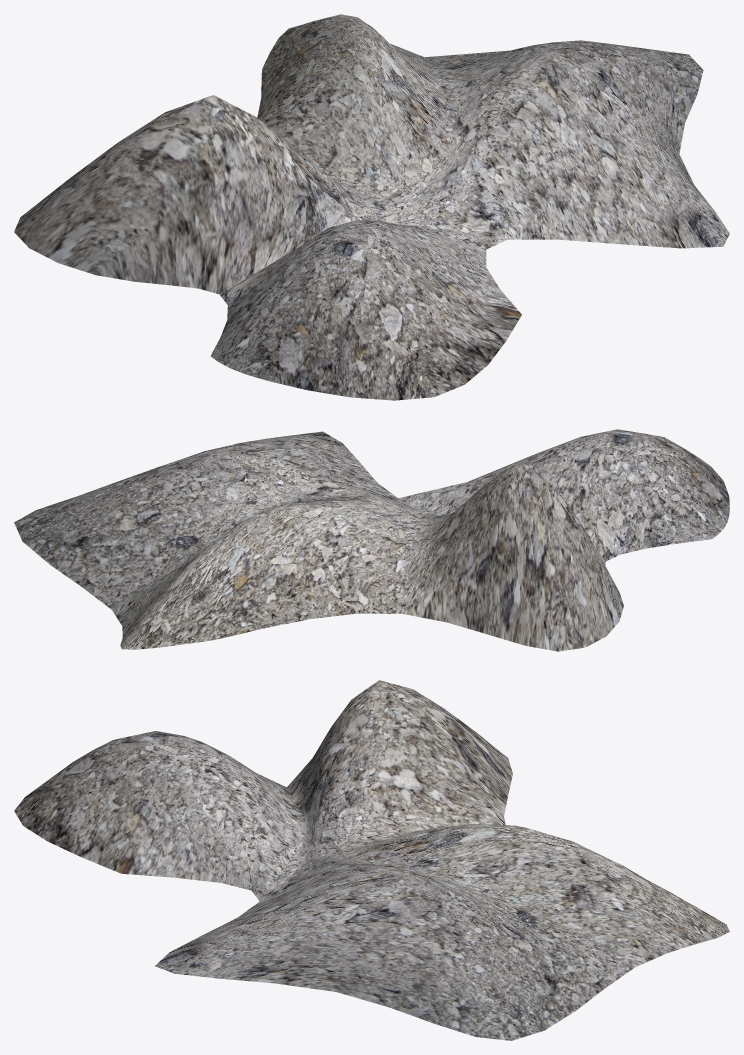
File: Ashes_3.fbx
3 views of the same model, one above another, from view 1: azimuth 30°, elevation 25°; view 2: azimuth 150°, elevation 25°; view 3: azimuth 270°, elevation 25° (orthographic). The views are drawn at different scales.
Visible parts, largest first — view 1: polySurface1; view 2: polySurface1; view 3: polySurface1.
Part boxes in pixels (x1,y1,x2,y2): polySurface1: [14, 14, 729, 400]; polySurface1: [14, 429, 729, 651]; polySurface1: [14, 680, 729, 1040].
Size of the model in its own units: 99.03 by 21.66 by 103.
Materials: 1 (1 with a texture image).
